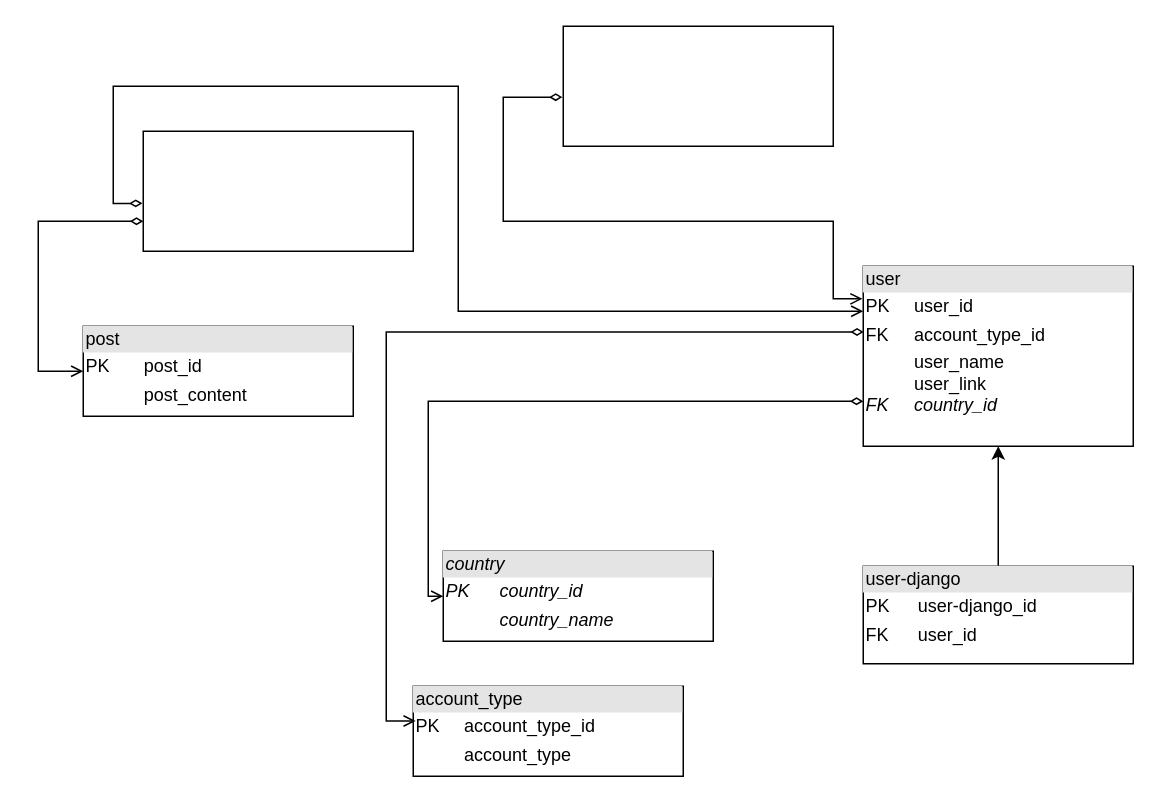
This 1160x803 diagram has some shape labels left out. Here are the shapes that lost their labels. From the top down, the box of each, then its label:
(562, 25, 833, 146): link PK link_id FK user_id link_content
(142, 130, 413, 251): post_user PK post_user_id FK user_id FK post_id
